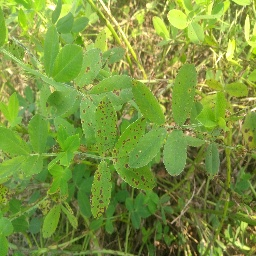GroundNut_Leaf: (130, 79, 168, 125), (172, 65, 199, 126), (87, 159, 112, 220), (127, 126, 161, 168), (49, 160, 81, 200), (96, 97, 118, 154), (51, 43, 84, 77), (164, 129, 187, 176), (27, 111, 51, 154), (116, 170, 158, 193), (85, 75, 128, 95), (42, 203, 61, 237), (17, 158, 47, 177), (205, 143, 220, 180), (55, 12, 75, 35), (86, 46, 102, 73), (167, 7, 186, 29), (1, 132, 22, 151), (8, 95, 20, 127), (188, 18, 203, 43), (65, 130, 79, 154)
